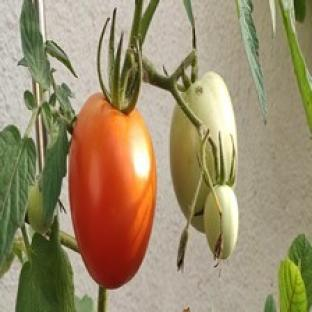Tomato: (69, 94, 155, 288), (183, 72, 236, 181), (204, 186, 238, 259), (28, 182, 52, 233)
